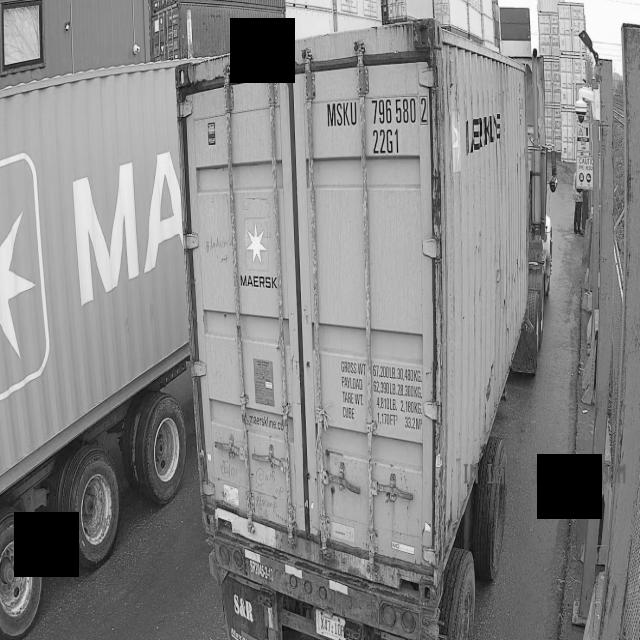container_company_logo: (240, 218, 277, 288)
container_number: (317, 83, 455, 165)
driver: (569, 166, 582, 243)
license_plate: (316, 610, 345, 640)
other_container_info: (339, 350, 426, 434)
truck_with_container: (176, 19, 557, 640), (0, 63, 189, 640)
